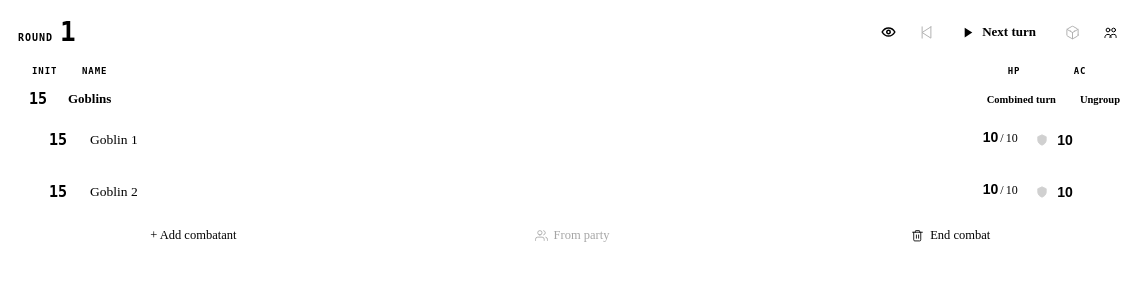
group initiative - selecting a combined group's members › shows a selection checkbox on a combined group's member rows once select mode is on
Click the button titled "Select combatants to group (shared initiative)".
click(1110, 32)  # box 1094,16 -> 1126,48
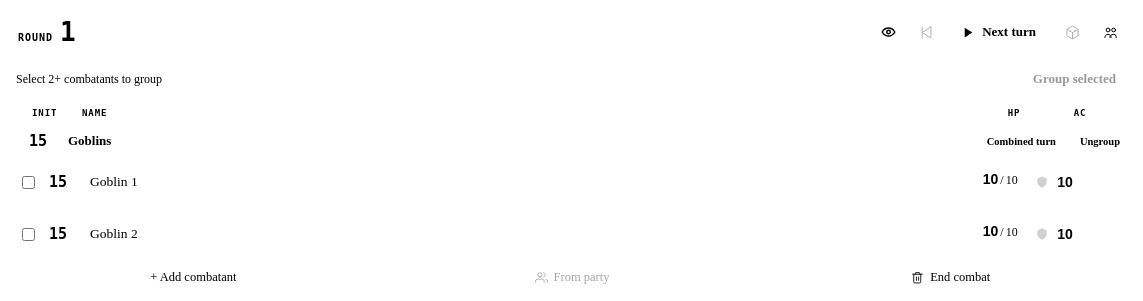
Expected: the number of checkboxes is 2, 22,176 -> 35,188; 22,228 -> 35,240
